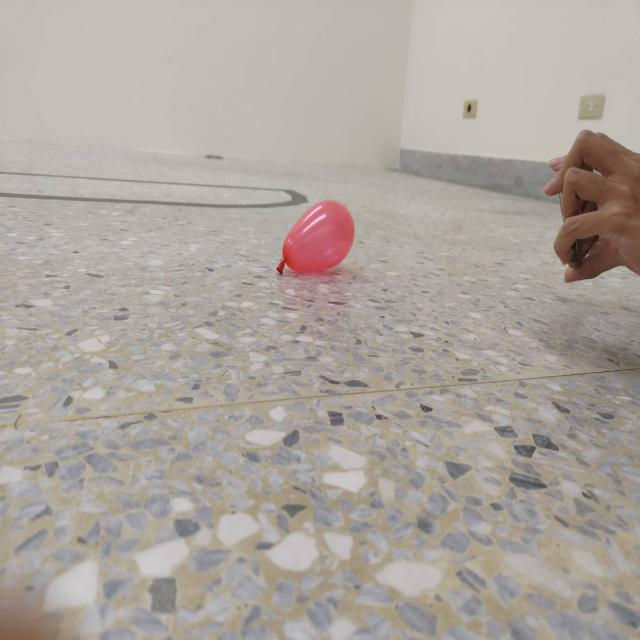red: (276, 198, 354, 274)
